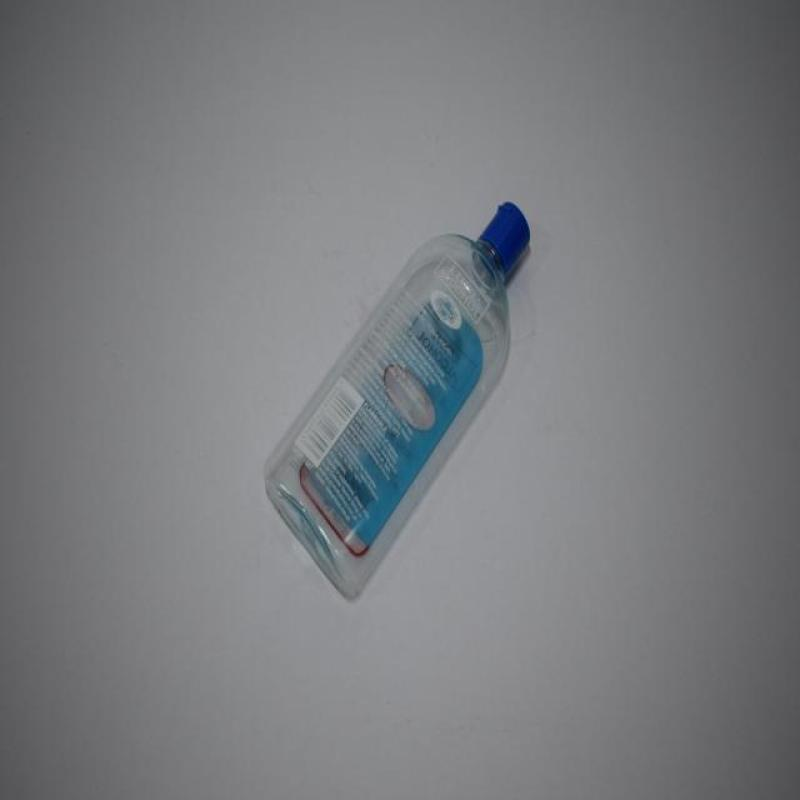botella: (259, 190, 533, 610)
